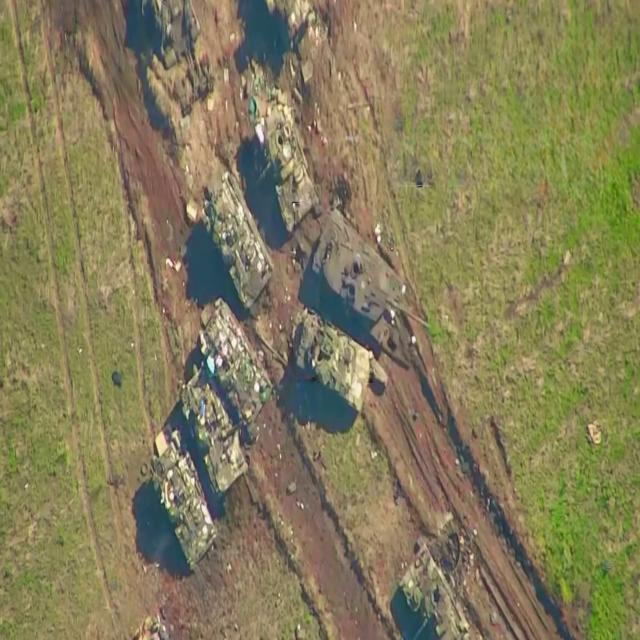AIFV: (202, 165, 274, 320), (149, 437, 218, 598), (198, 297, 276, 436), (180, 363, 249, 508), (253, 104, 321, 238), (294, 307, 374, 415), (399, 527, 470, 640)
MBT: (312, 209, 436, 354), (139, 1, 202, 72)
